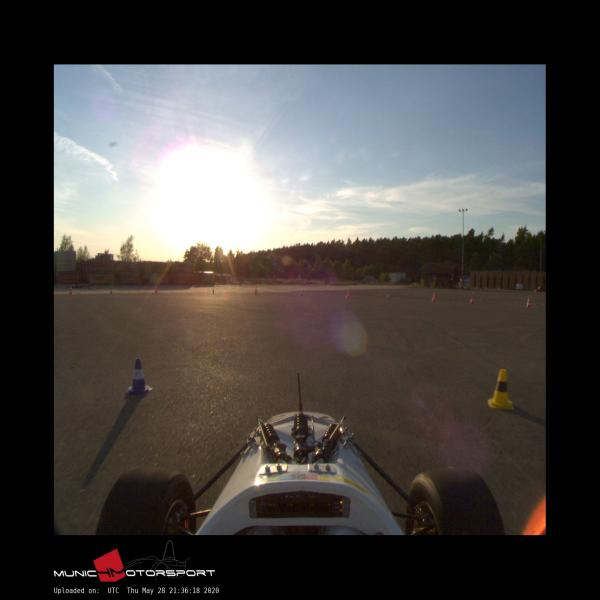blue_cone: (125, 358, 153, 396)
yellow_cone: (488, 368, 514, 411)
